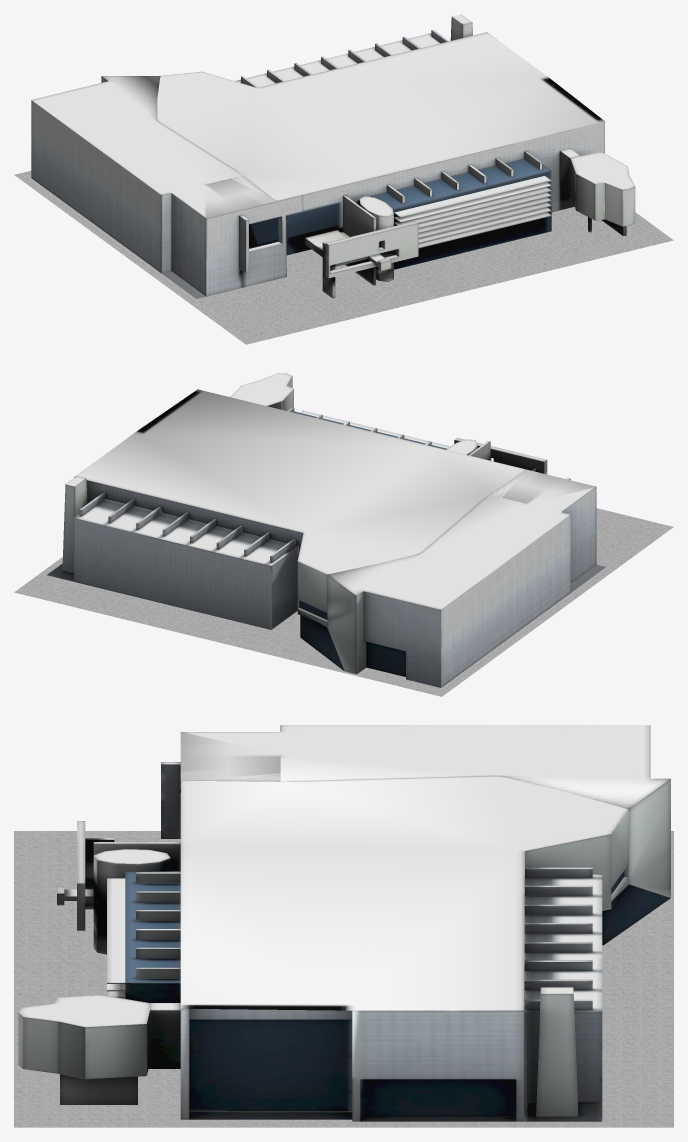
File: acuario.obj
3 renders of one model, top to bottom at view 1: azimuth 30°, elevation 25°; view 2: azimuth 150°, elevation 25°; view 3: azimuth 270°, elevation 25°, orthographic. The views are drawn at different scales.
Parts seen in each view (by area): view 1: aquarium2, Plane001; view 2: aquarium2, Plane001; view 3: aquarium2, Plane001.
Boxes of the visible parts, x1,y1,x2,y2 form: aquarium2: (31, 14, 635, 298); Plane001: (14, 171, 673, 344); aquarium2: (47, 373, 605, 687); Plane001: (14, 508, 673, 696); aquarium2: (18, 725, 670, 1121); Plane001: (14, 831, 673, 1127).
Size of the model in its own units: 234 by 44.92 by 219.
